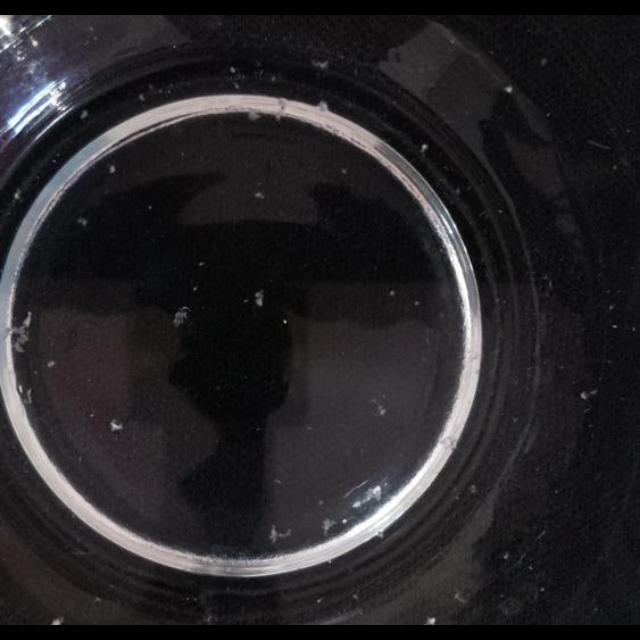Fibre: (11, 312, 34, 351), (268, 524, 292, 544), (173, 306, 191, 326), (253, 289, 264, 307), (247, 110, 261, 122), (312, 60, 328, 70), (317, 100, 329, 112), (503, 85, 512, 93)
microbeads: (322, 517, 338, 535), (580, 388, 596, 400), (110, 420, 124, 432), (76, 216, 88, 226), (51, 616, 63, 626), (253, 190, 264, 200), (378, 404, 387, 416), (376, 530, 386, 540), (26, 388, 32, 404), (352, 592, 361, 602), (46, 360, 56, 368), (108, 164, 116, 174), (421, 144, 429, 154), (470, 483, 478, 493), (540, 56, 548, 66), (80, 109, 88, 119), (425, 617, 435, 625), (198, 260, 206, 268), (138, 94, 146, 102), (274, 478, 282, 486), (502, 552, 510, 560), (228, 66, 236, 74), (612, 164, 620, 172), (414, 300, 421, 308), (316, 499, 324, 506), (608, 304, 616, 310), (342, 167, 348, 175), (306, 424, 312, 432), (388, 290, 394, 296), (612, 324, 618, 330), (192, 286, 198, 292)
